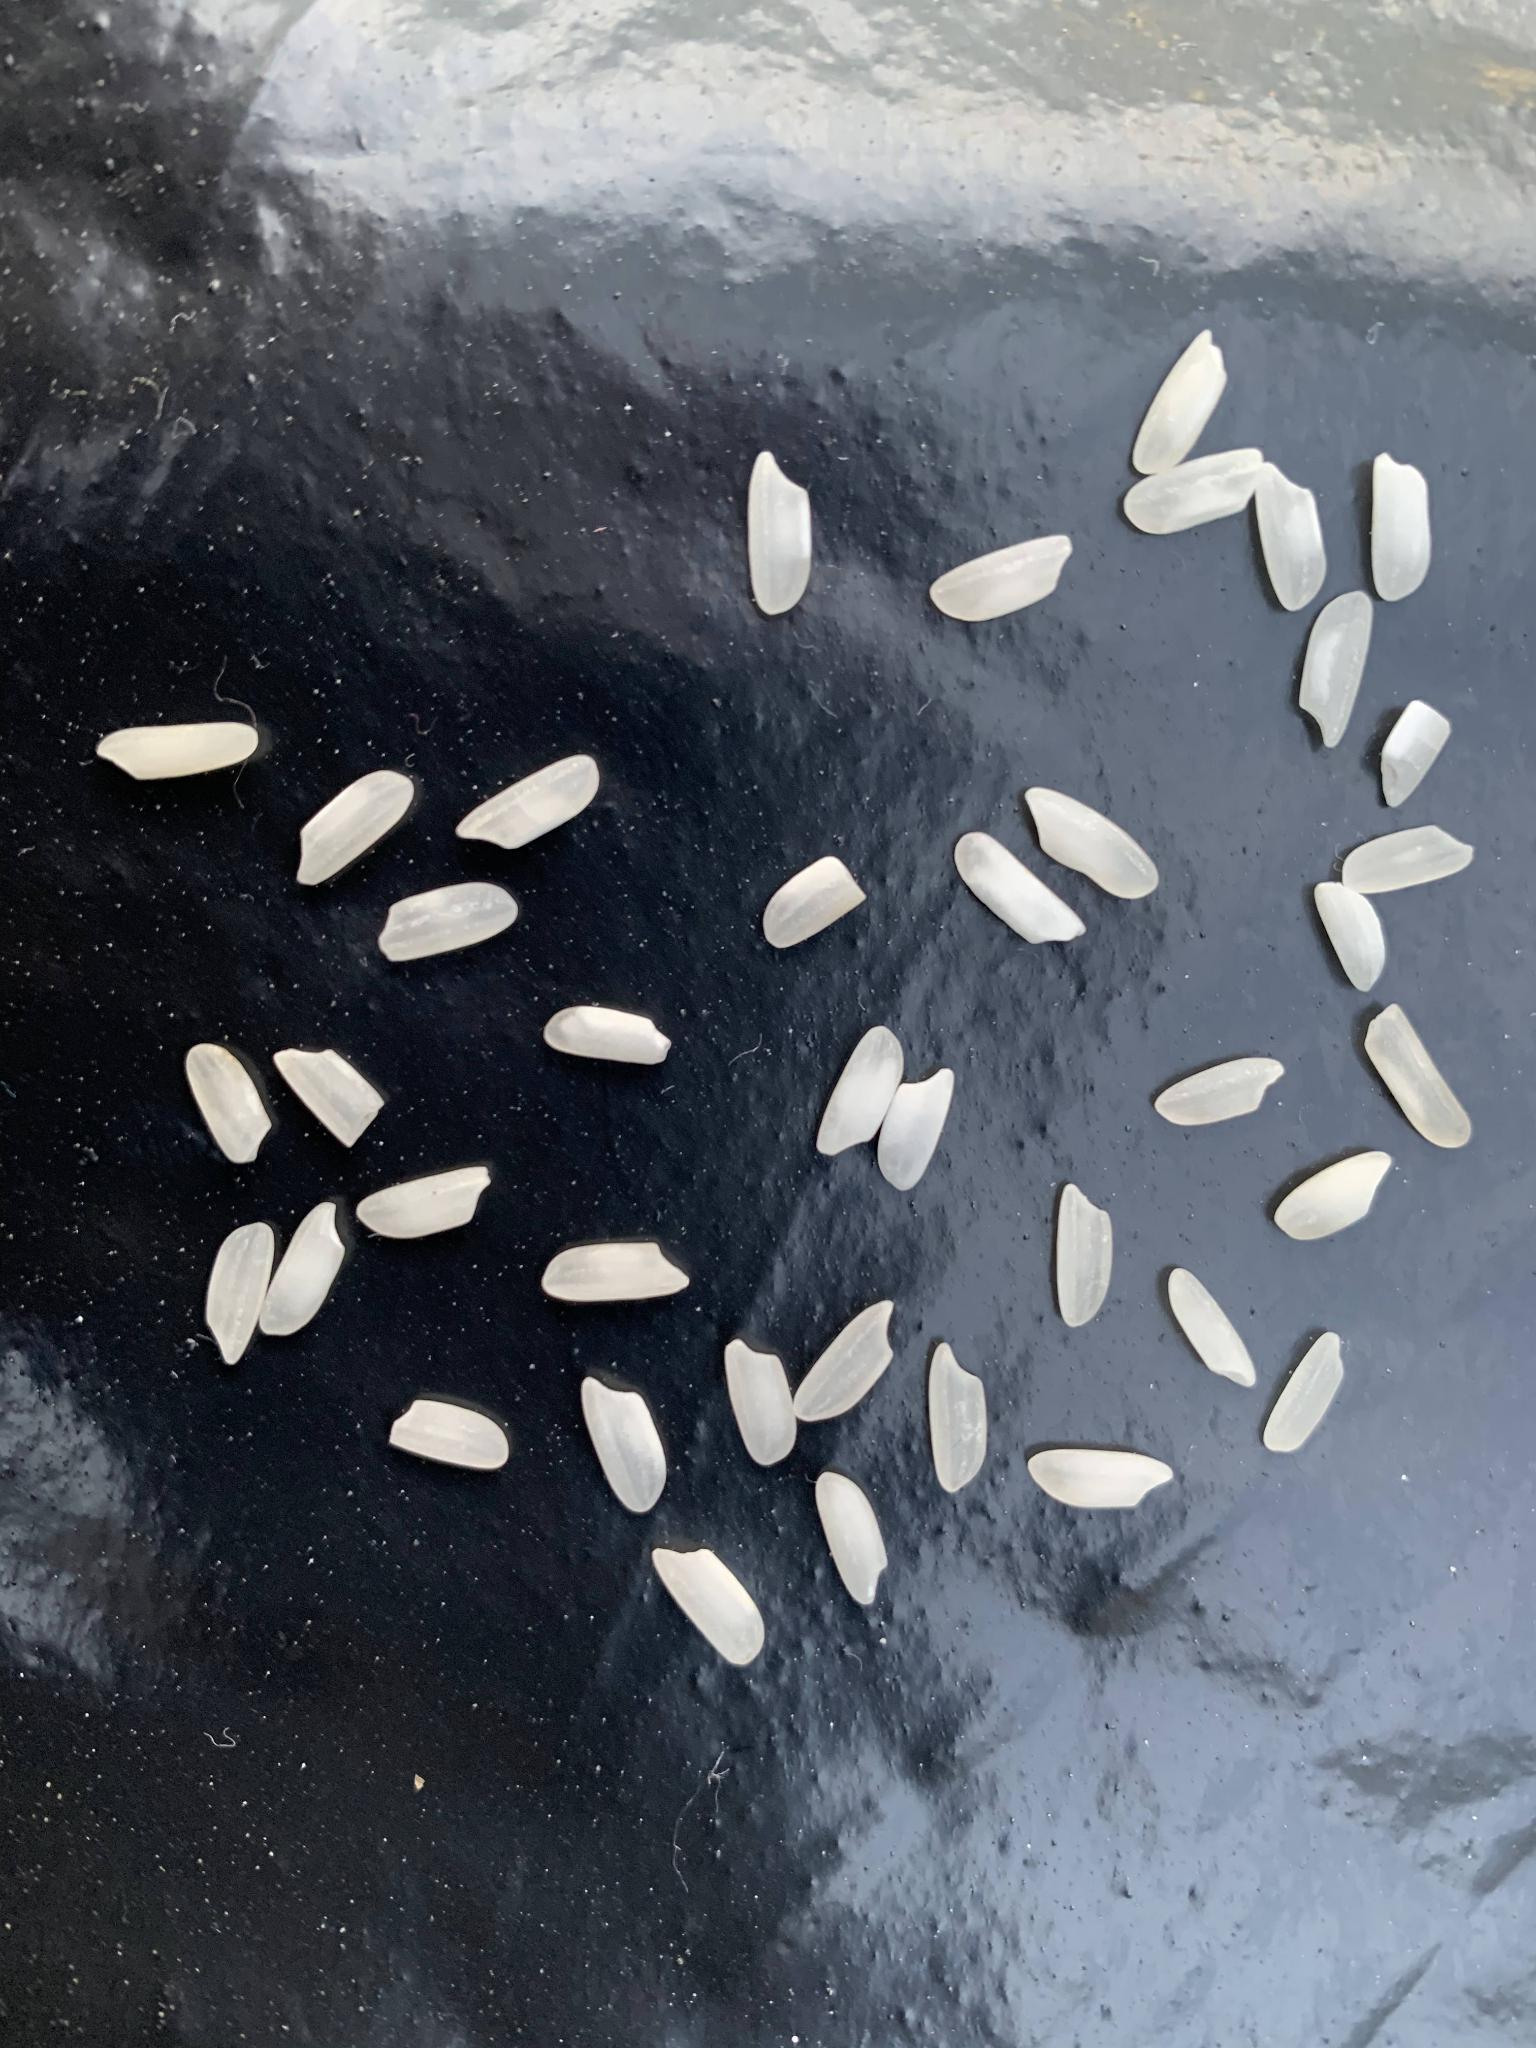rice: (1362, 1003, 1471, 1151), (1025, 785, 1162, 898), (955, 830, 1087, 947), (294, 764, 415, 885), (1131, 327, 1229, 476), (455, 751, 600, 850), (650, 1546, 766, 1664), (1121, 447, 1268, 537), (929, 535, 1073, 622), (795, 1300, 899, 1421), (1297, 590, 1373, 751), (578, 1376, 666, 1513), (260, 1200, 345, 1335), (378, 882, 523, 961), (816, 1026, 904, 1156), (1167, 1268, 1258, 1388), (273, 1050, 384, 1148), (1271, 1150, 1391, 1240), (355, 1164, 494, 1242), (1257, 463, 1328, 613), (186, 1043, 273, 1164), (1262, 1330, 1346, 1453), (749, 452, 812, 614), (203, 1222, 274, 1366), (760, 855, 866, 950), (97, 719, 260, 780), (878, 1068, 957, 1193), (815, 1472, 889, 1605), (1342, 822, 1475, 895), (721, 1338, 795, 1466), (1154, 1056, 1286, 1127), (1054, 1184, 1117, 1330), (1373, 452, 1433, 603), (928, 1343, 987, 1495), (1025, 1450, 1176, 1509), (542, 1242, 691, 1301), (1379, 698, 1455, 810), (1313, 880, 1388, 992), (390, 1400, 510, 1467), (542, 1006, 671, 1066)
